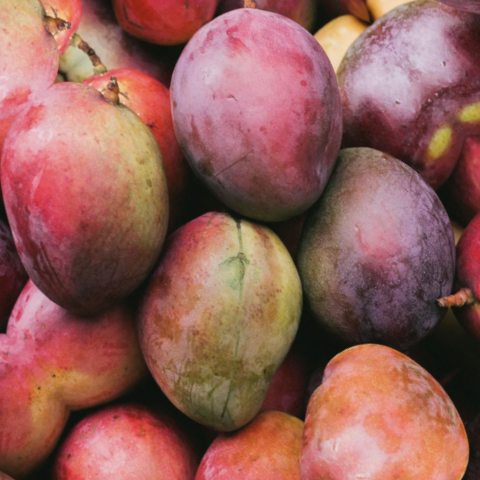mango: (69, 167, 368, 461), (0, 42, 245, 359), (107, 0, 402, 253), (234, 111, 480, 392)
